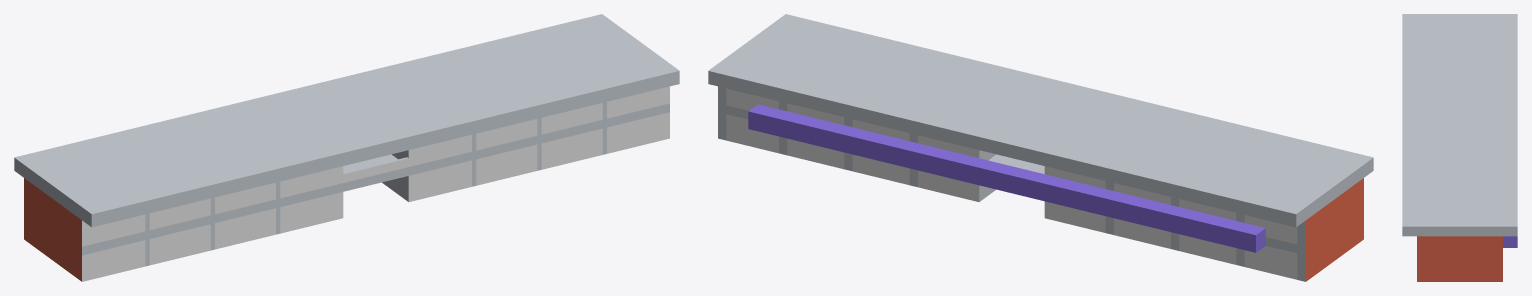
File: salas_eixo3.glb
3 renders of one model, left to right at view 1: azimuth 30°, elevation 25°; view 2: azimuth 150°, elevation 25°; view 3: azimuth 270°, elevation 25°, orthographic. The views are drawn at different scales.
Visible parts, largest first — view 1: Salas - Eixo 3; view 2: Salas - Eixo 3; view 3: Salas - Eixo 3.
Boxes of the visible parts, bbox=[...] form: Salas - Eixo 3: bbox=[14, 14, 679, 281]; Salas - Eixo 3: bbox=[708, 14, 1373, 281]; Salas - Eixo 3: bbox=[1402, 14, 1517, 281].
Size of the model in its own units: 69.91 by 8.5 by 15.99.
